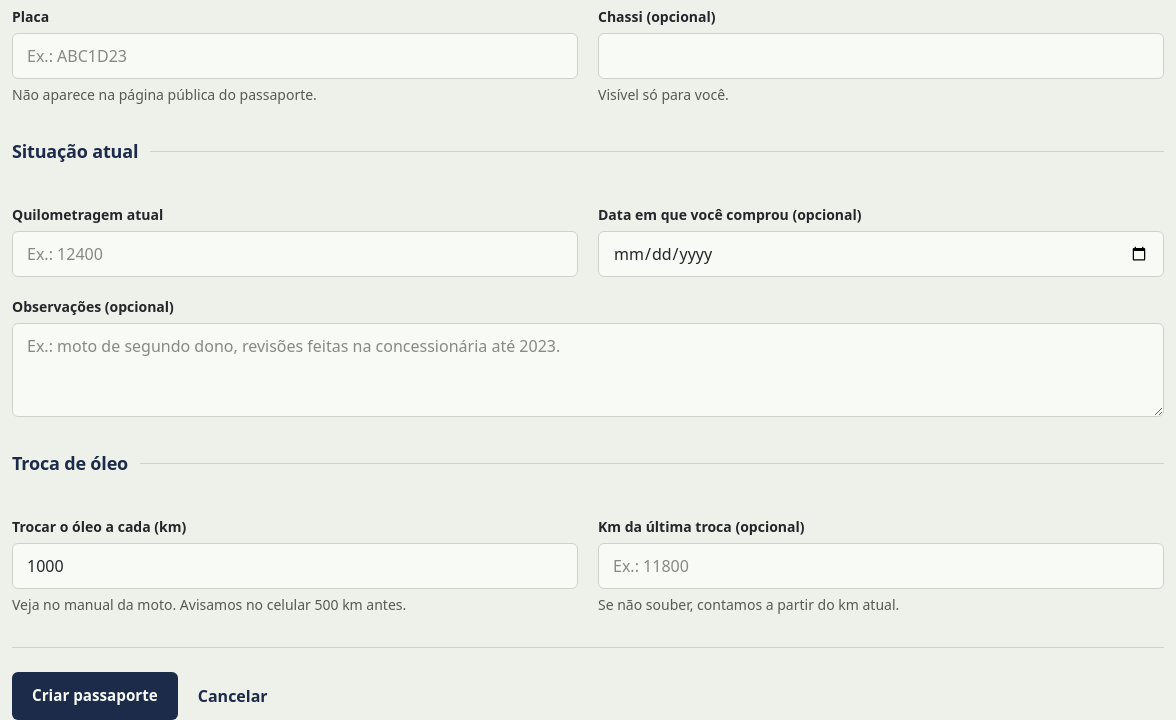
it: RegisterMotorcyclePage › não envia com campos obrigatórios vazios e mostra os motivos
This screenshot has width=1176, height=720.
(page scrolled)
Click the button "Criar passaporte" at [95, 696], box [12,672,178,719]
(page scrolled)
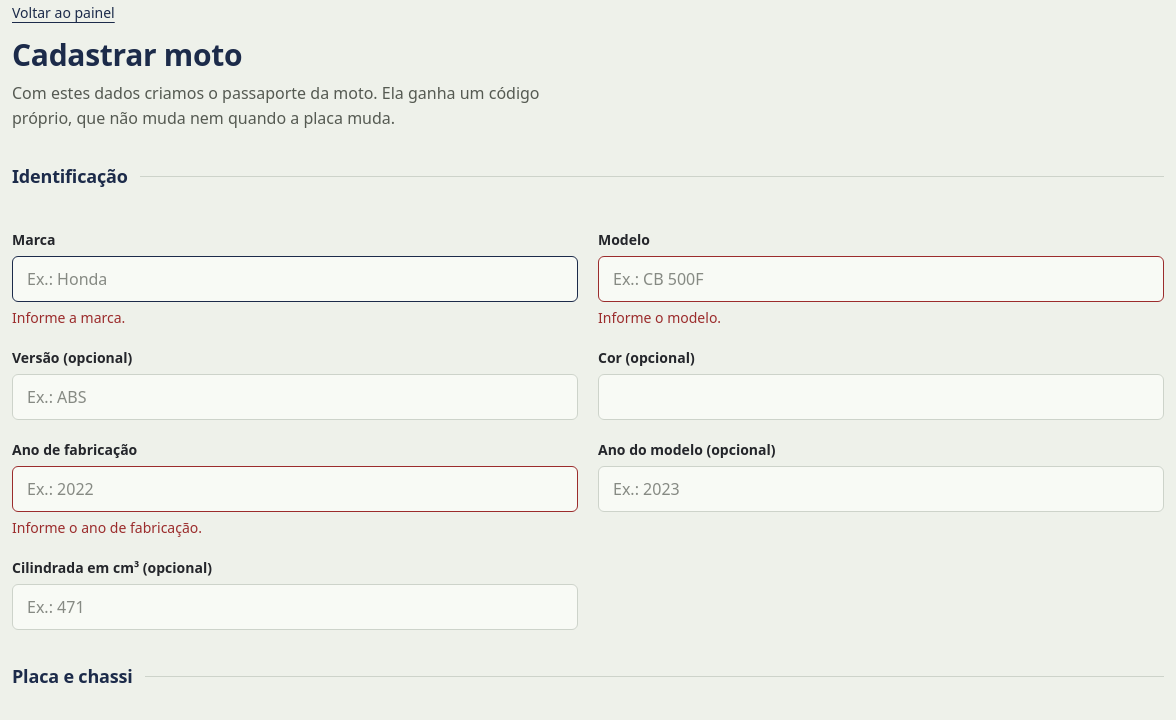
Expected: the text "Informe a marca." is shown, [12,308,125,327]
